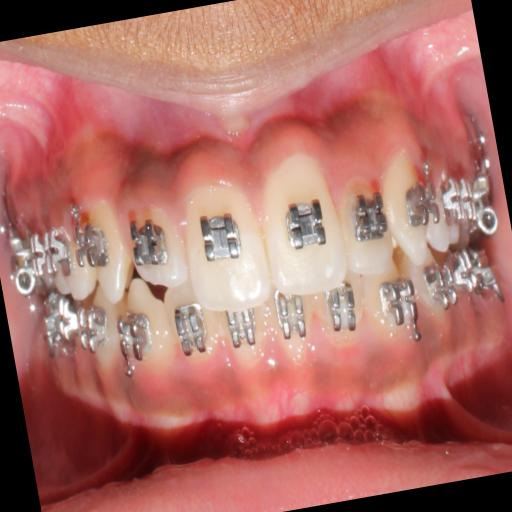correct_brace: (278, 190, 332, 252), (192, 206, 246, 264), (127, 214, 175, 274), (347, 186, 391, 246), (403, 176, 442, 232), (72, 218, 110, 270)
incorrect_brace: (328, 162, 402, 284), (123, 194, 193, 290)
